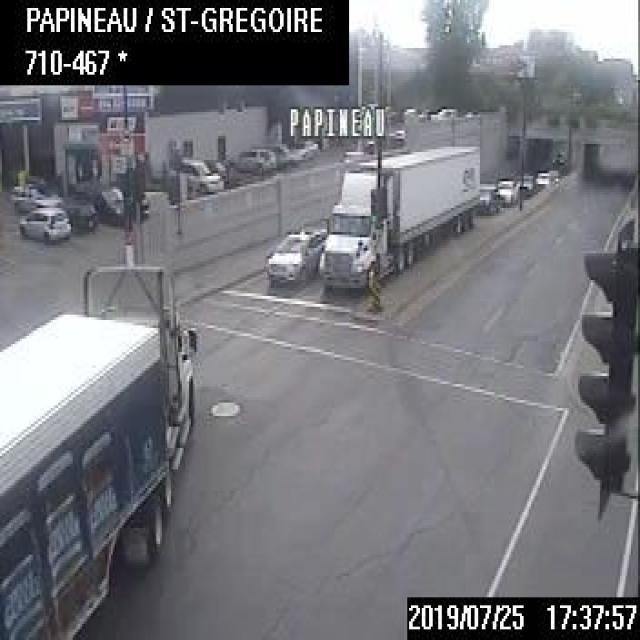vehicle: (0, 258, 196, 637), (317, 138, 481, 298), (262, 226, 325, 290), (165, 154, 223, 195), (16, 202, 70, 241), (226, 144, 276, 178), (93, 184, 124, 228), (8, 181, 62, 205), (62, 199, 97, 232), (478, 182, 498, 216), (496, 176, 518, 206), (534, 170, 551, 189), (550, 147, 565, 164)
